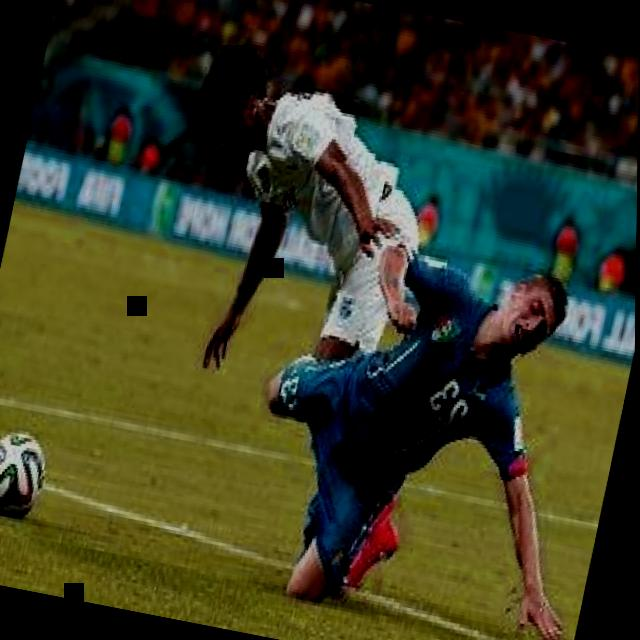Fall-Detected: (222, 193, 638, 640)
